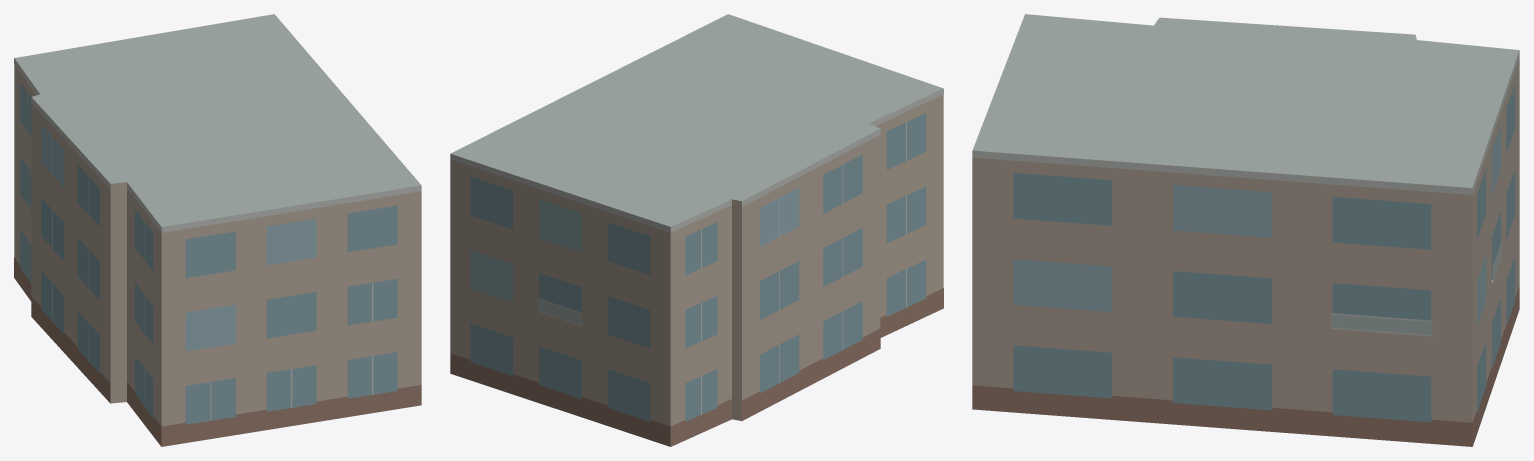
File: survey-upis-32681315.glb
The picture shows the model from 3 angles, left to right: view 1: azimuth 30°, elevation 25°; view 2: azimuth 150°, elevation 25°; view 3: azimuth 270°, elevation 25°; orthographic projection. The views are drawn at different scales.
Visible parts, largest first — view 1: survey-upis-32681315.tmp; view 2: survey-upis-32681315.tmp; view 3: survey-upis-32681315.tmp.
Part boxes in pixels (x1,y1,x2,y2): survey-upis-32681315.tmp: (14, 14, 421, 446); survey-upis-32681315.tmp: (450, 14, 943, 446); survey-upis-32681315.tmp: (972, 14, 1519, 446).
Bounding box in the file's own units: 13.21 × 9.15 × 17.55.
